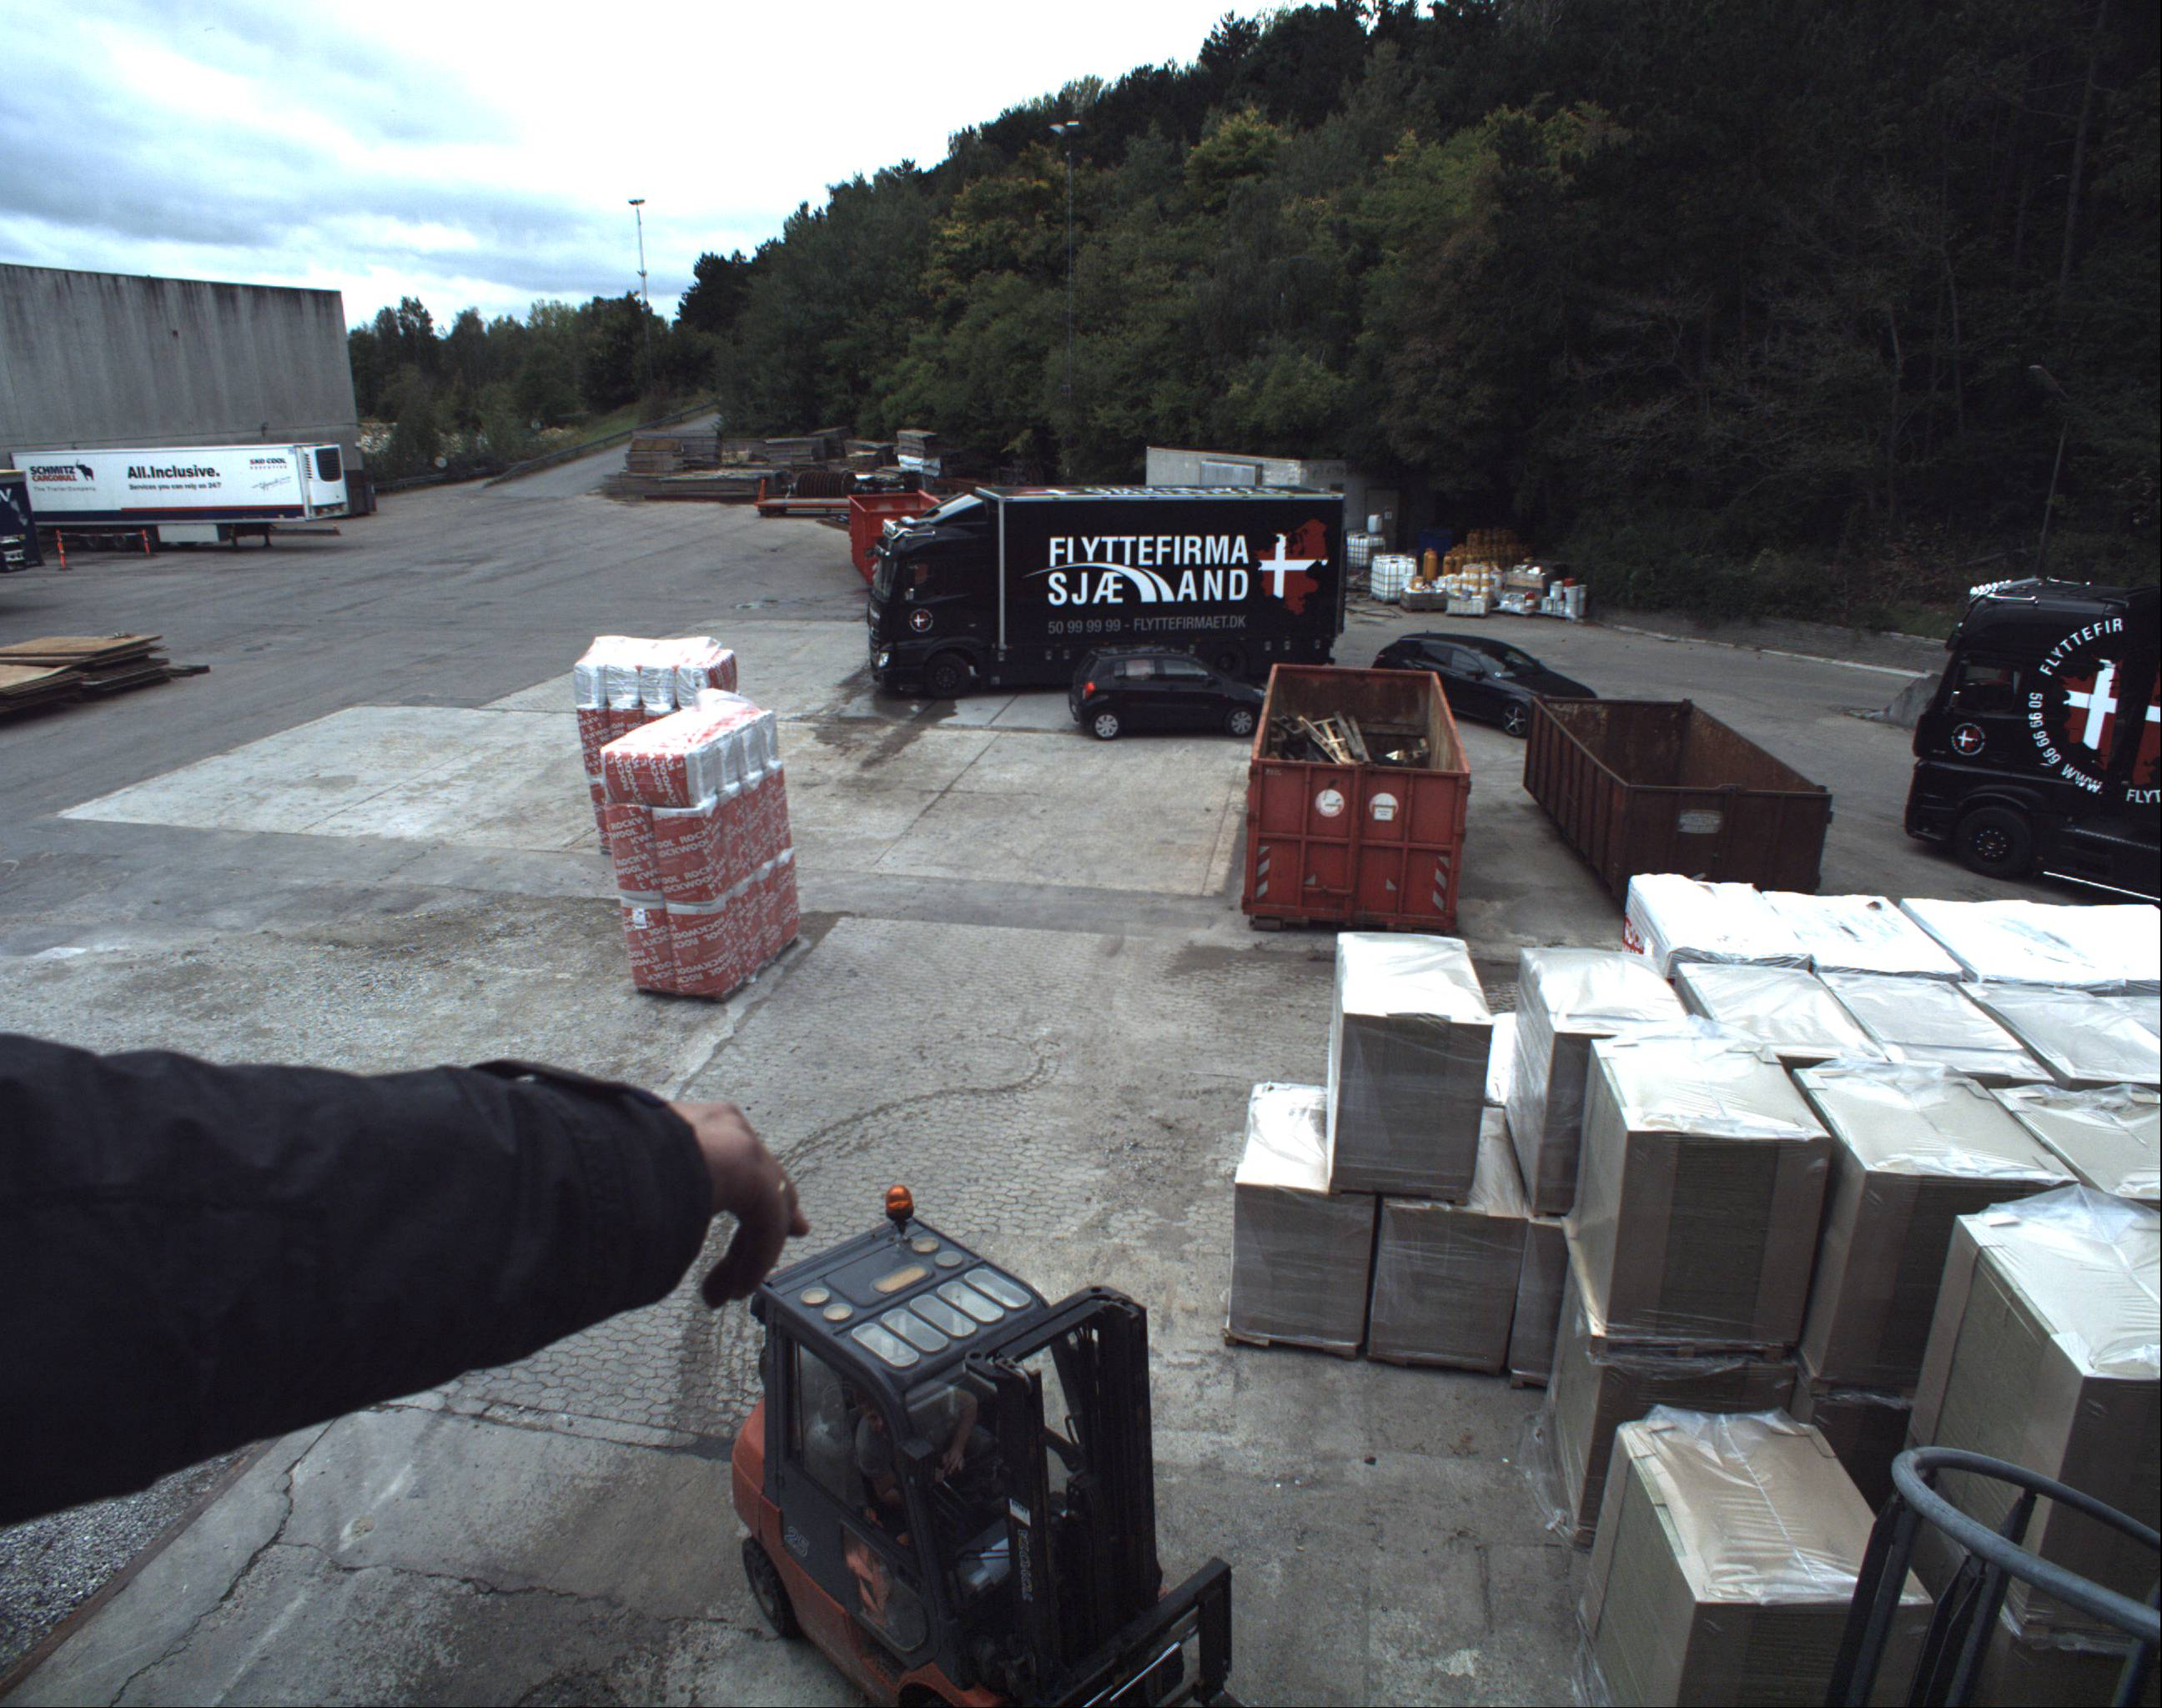rockwool_batts: (595, 693, 795, 992), (577, 613, 741, 843)
